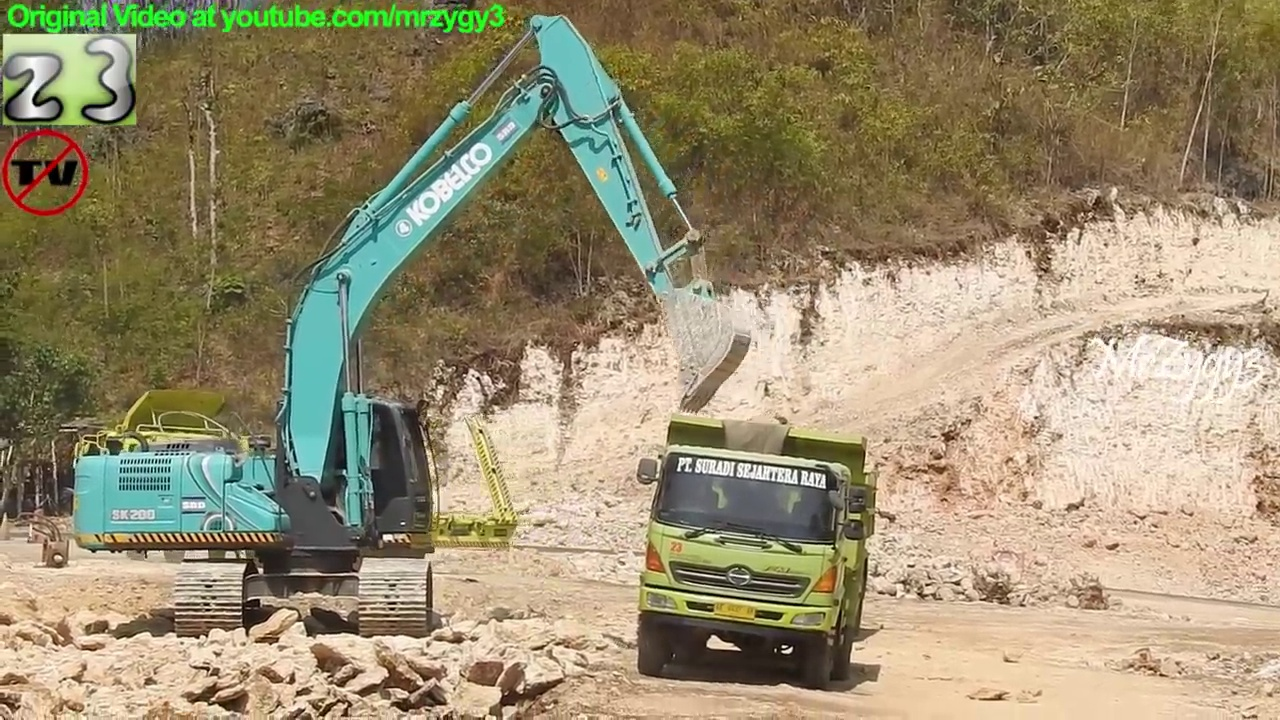excavator: (68, 9, 760, 643)
truck: (57, 388, 522, 569), (630, 409, 884, 696)
